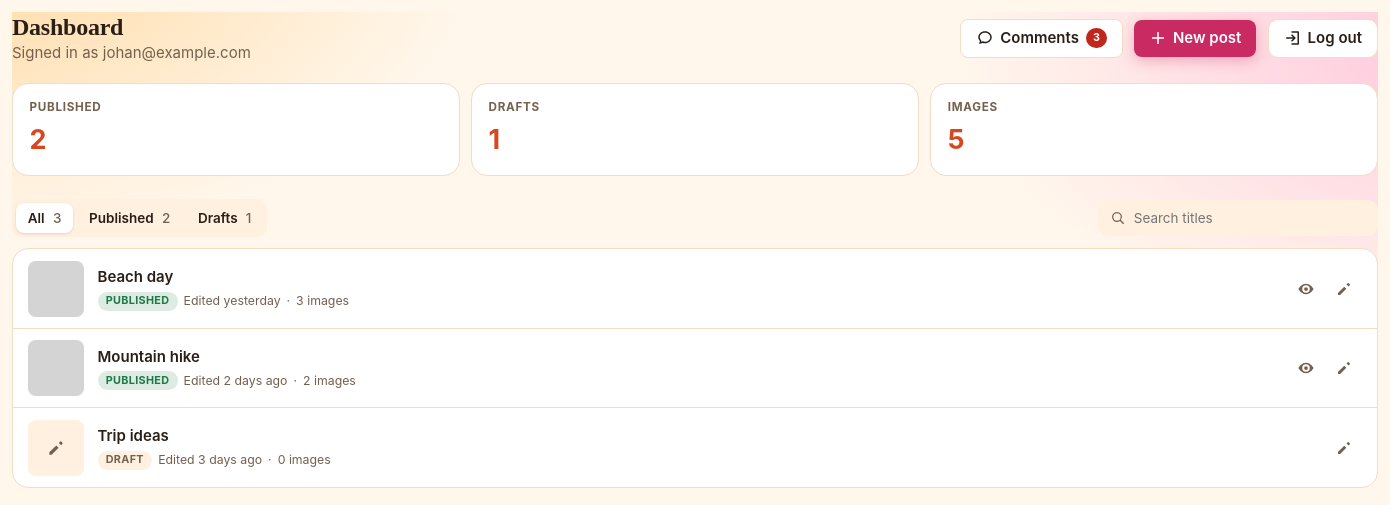
Test: AdminListPage › filters by tab and title search
Expected: the link "Beach day" is shown, top-left (98, 267), bottom-right (173, 286)
Expected: the number of list items is 3, top-left (13, 249), bottom-right (1377, 328); top-left (13, 328), bottom-right (1377, 407); top-left (13, 407), bottom-right (1377, 487)
Click the button "Drafts 1".
click(225, 218)  # box top-left (186, 202), bottom-right (263, 233)
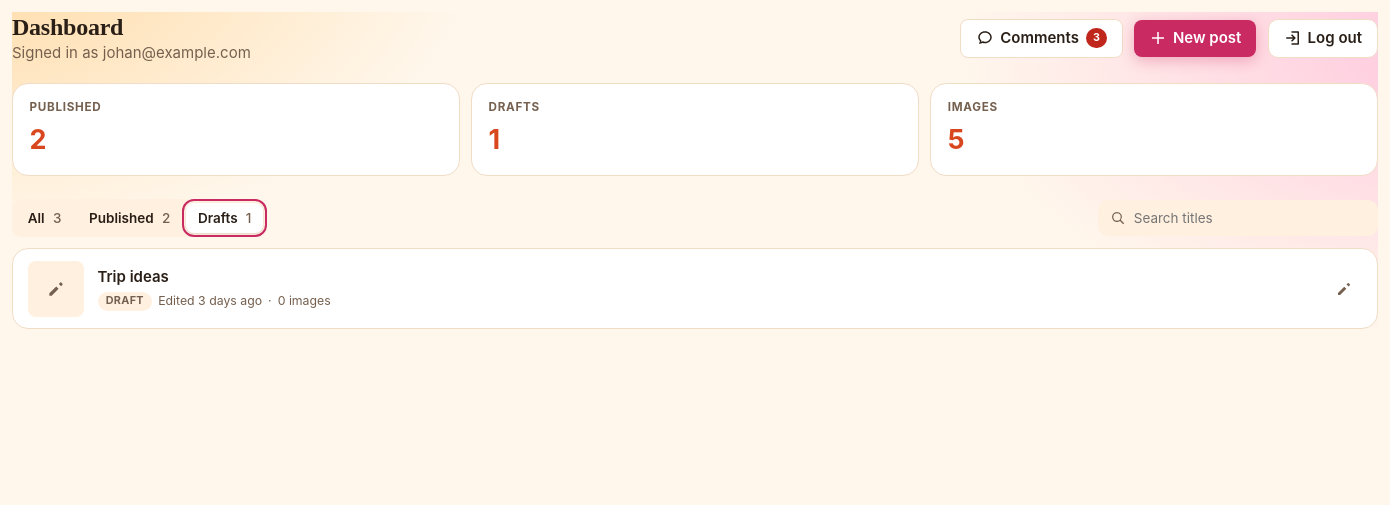
Expected: the link "Trip ideas" is shown, top-left (98, 267), bottom-right (169, 286)
Now the number of list items is 1, box top-left (13, 249), bottom-right (1377, 328)
Click the button "All 3".
click(45, 218)  # box top-left (16, 202), bottom-right (73, 233)
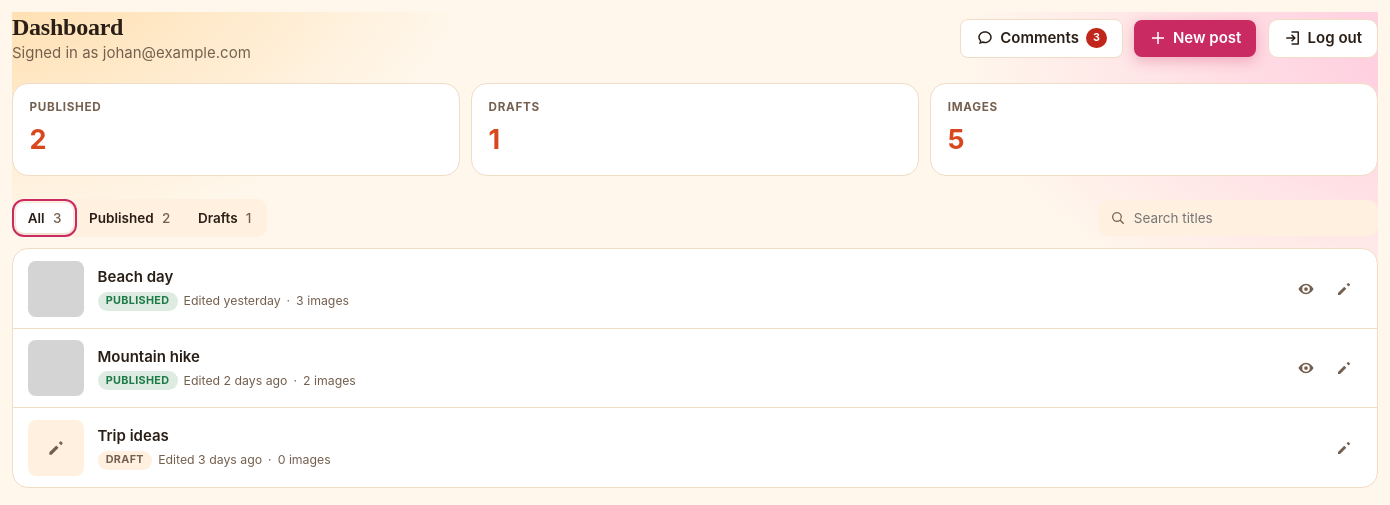
Type "mount" into the search field named "Search your posts".
click(1250, 218); type("mount")  # box top-left (1134, 201), bottom-right (1366, 235)
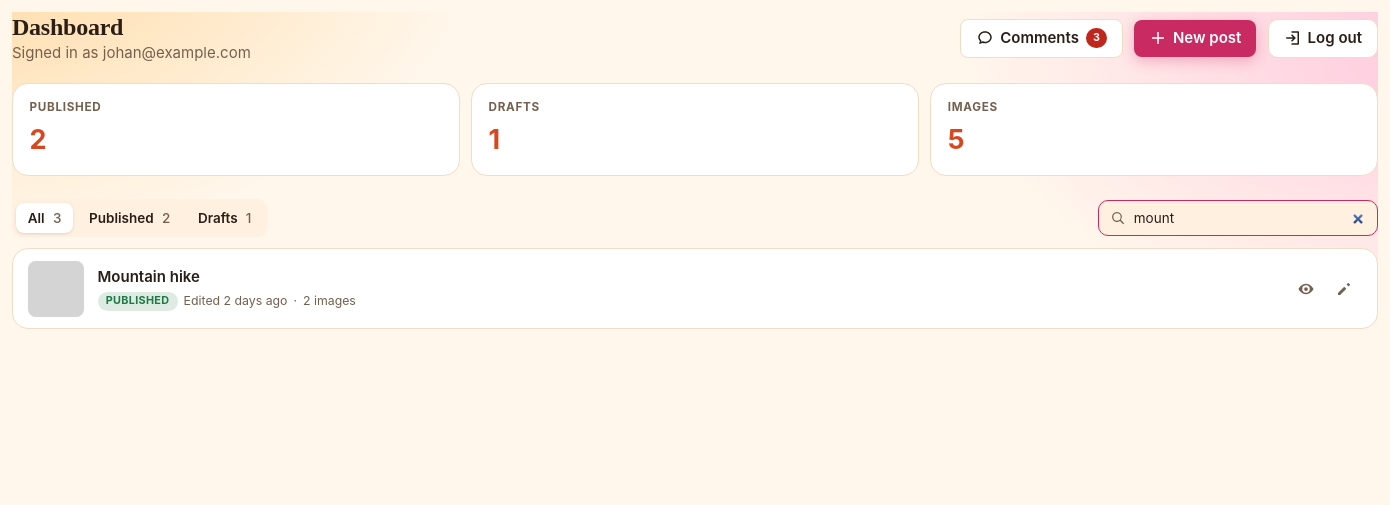
Now the link "Mountain hike" is shown, box top-left (98, 267), bottom-right (200, 286)
Now the number of list items is 1, box top-left (13, 249), bottom-right (1377, 328)
